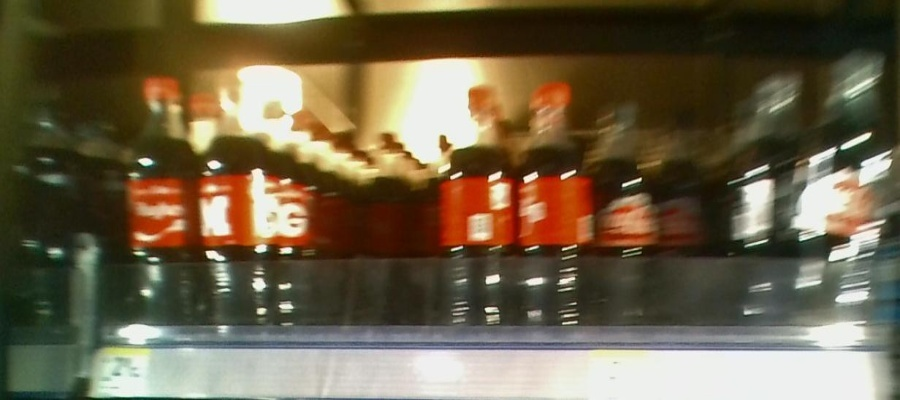bottle: (440, 80, 518, 337), (119, 65, 194, 330), (822, 51, 894, 324), (739, 74, 818, 321), (195, 90, 274, 325), (522, 73, 589, 333), (593, 91, 653, 320), (656, 115, 713, 322), (353, 117, 407, 315)
